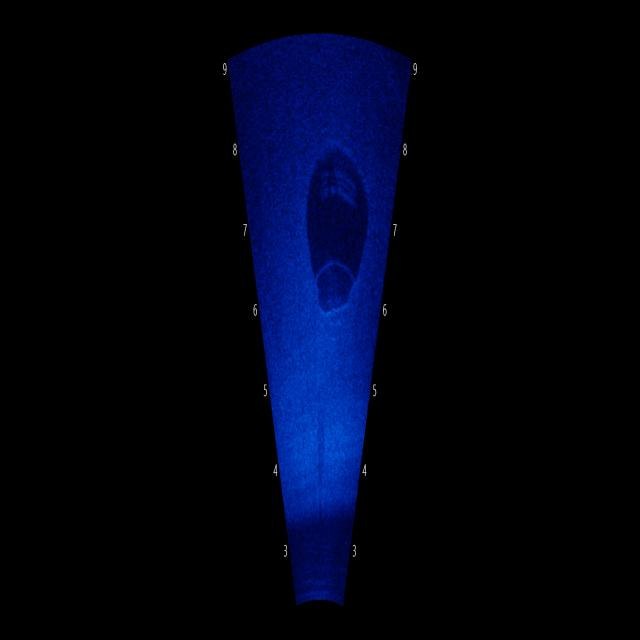circle: (288, 115, 377, 301)
